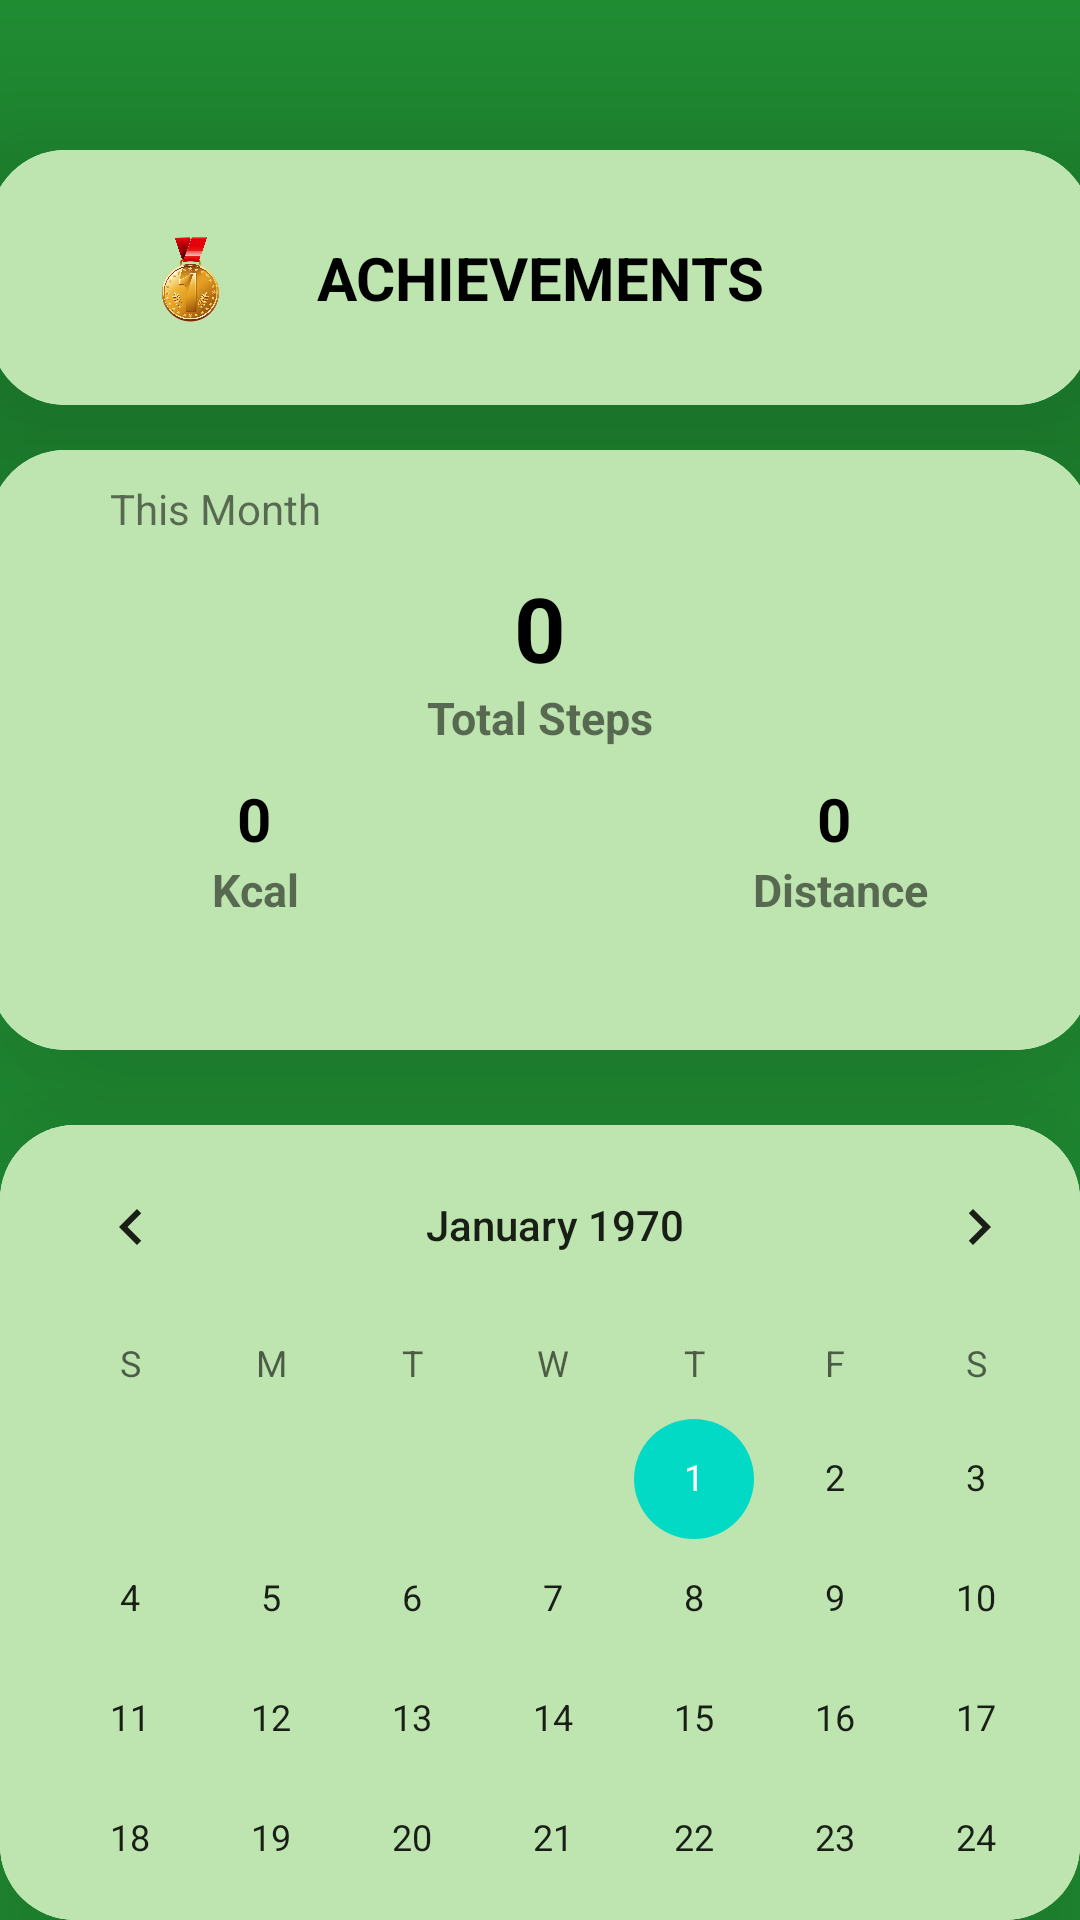

Screen size 1080px x 1920px. Icon name, then its box in pixels as BBox(x1, y1, x2, y2):
goldmedal: BBox(162, 237, 219, 322)
